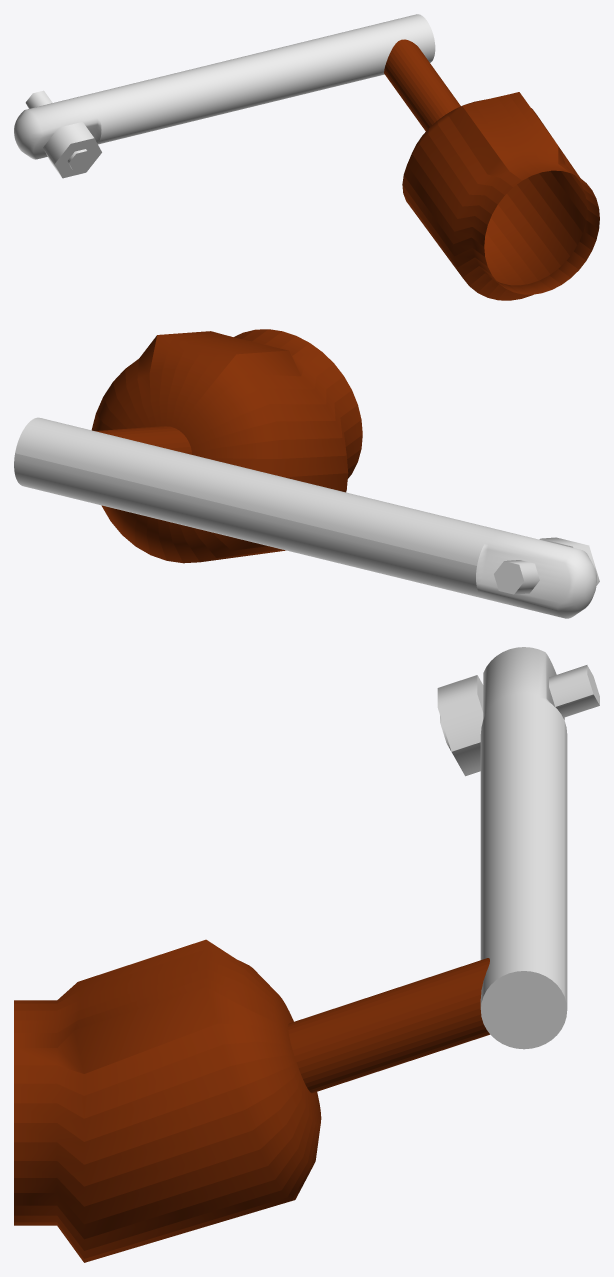
The model's file is RightFrontWheelAxis.glb.
3 views of the same model, one above another, from view 1: azimuth 30°, elevation 25°; view 2: azimuth 150°, elevation 25°; view 3: azimuth 270°, elevation 25° (orthographic). The views are drawn at different scales.
Visible parts, largest first — view 1: Right Front Wheel Axles corrected.001, Steering Rod Nut Right; view 2: Steering Rod Nut Right, Right Front Wheel Axles corrected.001; view 3: Right Front Wheel Axles corrected.001, Steering Rod Nut Right.
Part boxes in pixels (<box>): Right Front Wheel Axles corrected.001: <box>384,39,599,300</box>; Steering Rod Nut Right: <box>14,14,435,178</box>; Steering Rod Nut Right: <box>14,417,599,618</box>; Right Front Wheel Axles corrected.001: <box>91,329,362,563</box>; Right Front Wheel Axles corrected.001: <box>14,939,489,1262</box>; Steering Rod Nut Right: <box>437,647,599,1049</box>.
Bounding box in the file's own units: 0.1118 × 0.0436 × 0.0758.
